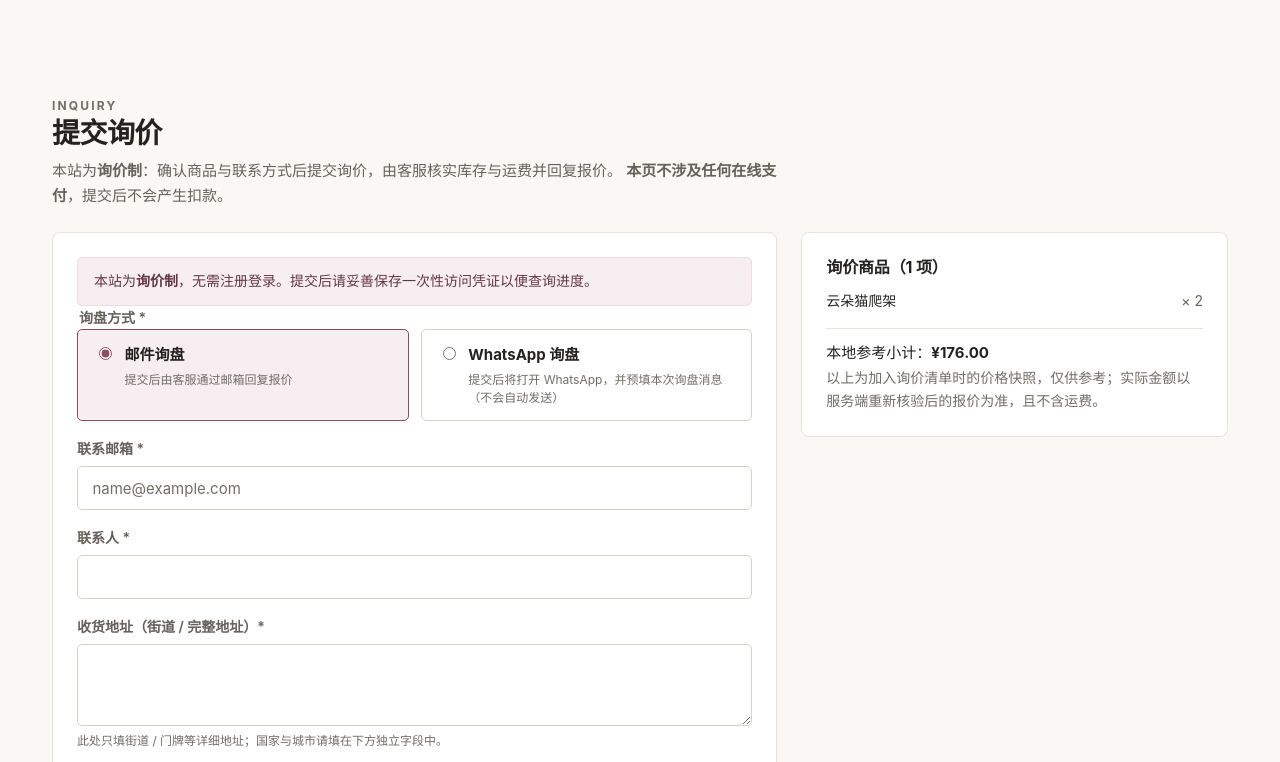
Scenario: CheckoutPage · G6-2.9（提交失败恢复 / 结果未知区分 / 刷新重进） › 提交成功后：购物车清空、跳转结果页，且不残留错误提示
Type "guest@example.com" into the field with id "checkout-email". click: (415, 488)
box: [77, 466, 752, 510]
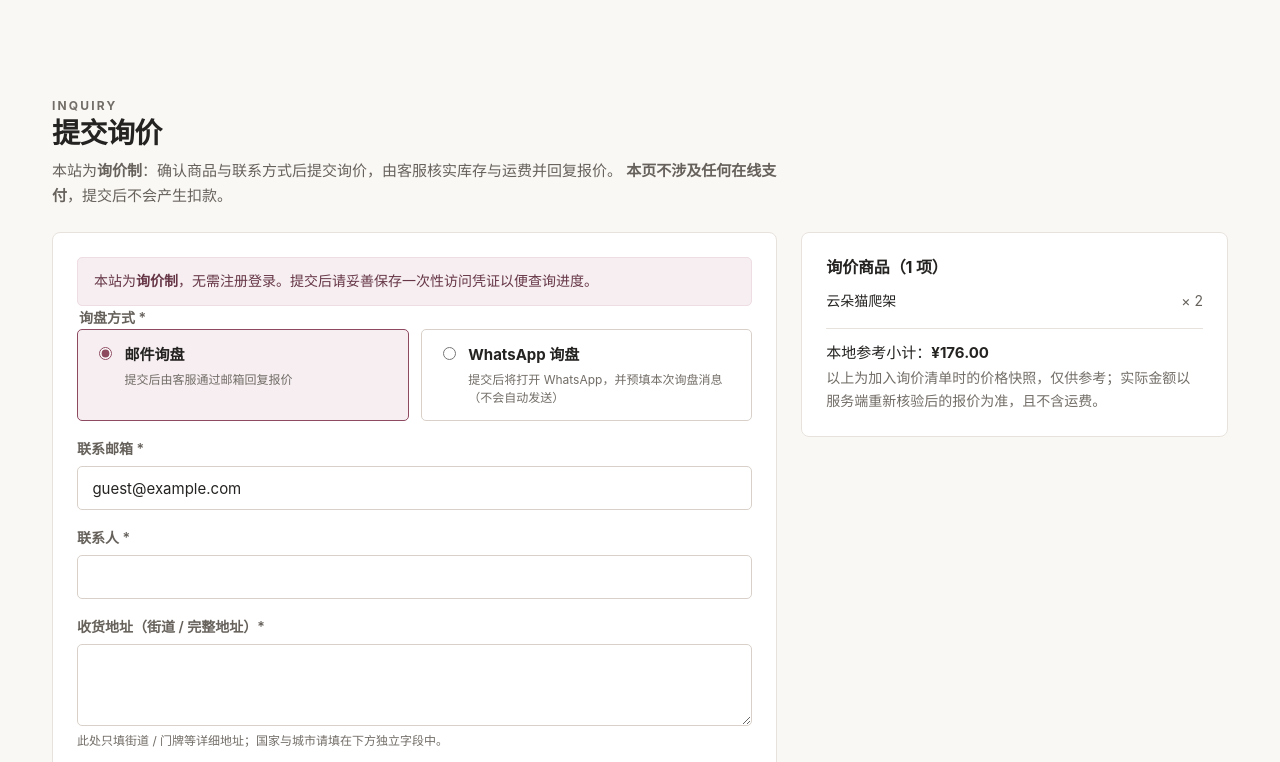
Type "张三" into the field with id "checkout-name". click: (415, 577)
box: [77, 555, 752, 599]
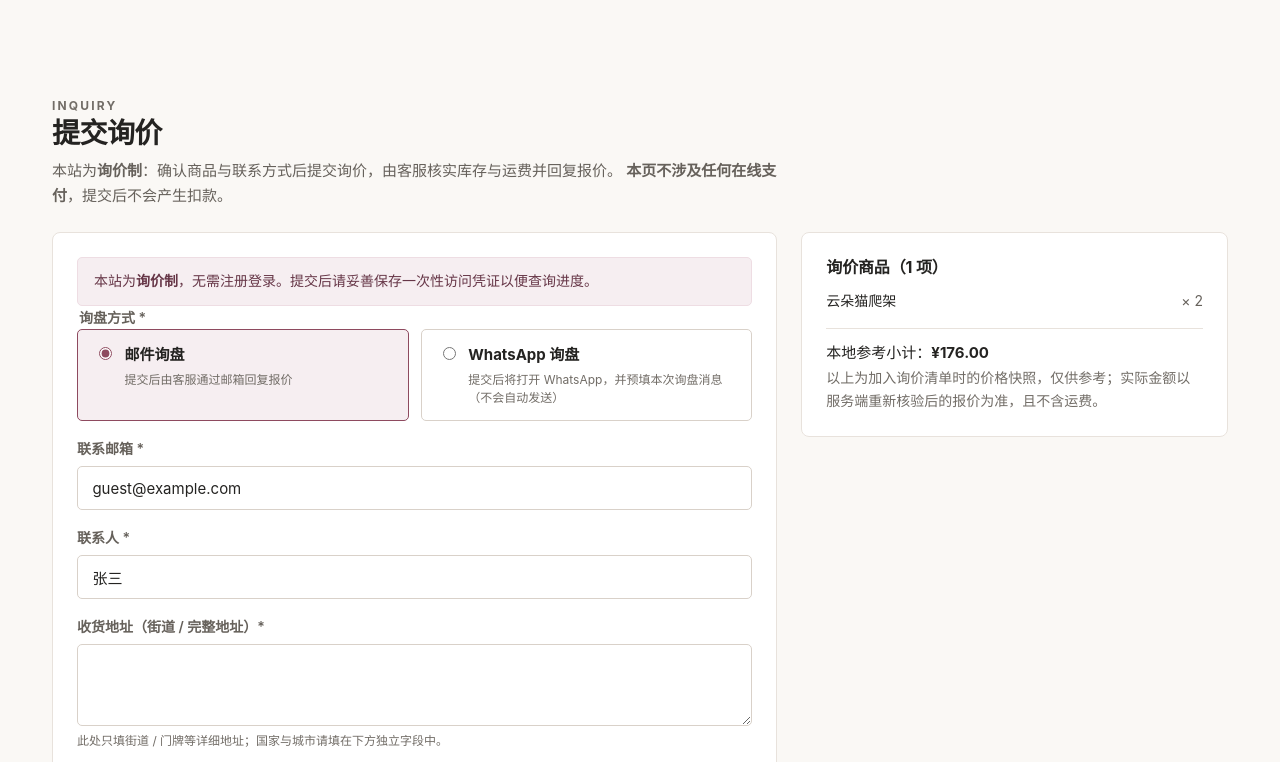
Type "123 Pet Street, Springfield, IL 62704" into the text box with id "checkout-address". click: (415, 685)
box: [77, 644, 752, 726]
(page scrolled)
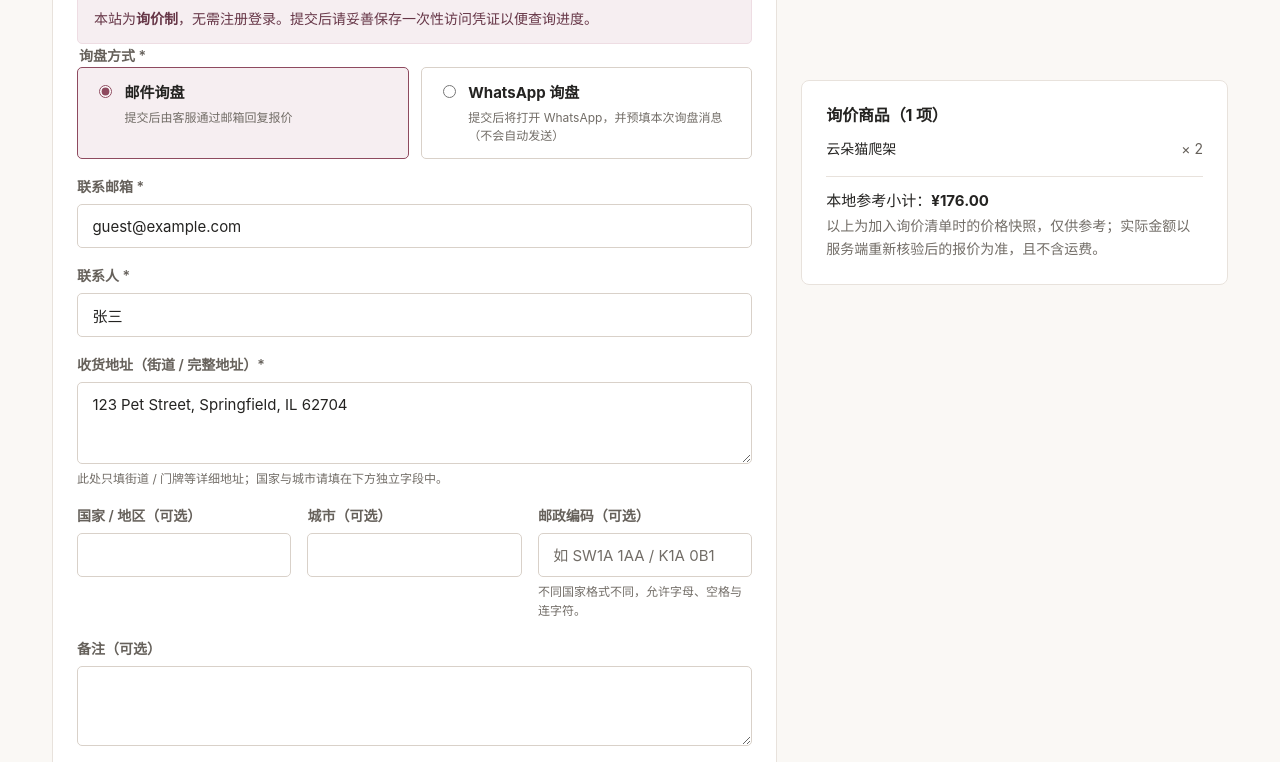
Submit the form
(page scrolled)
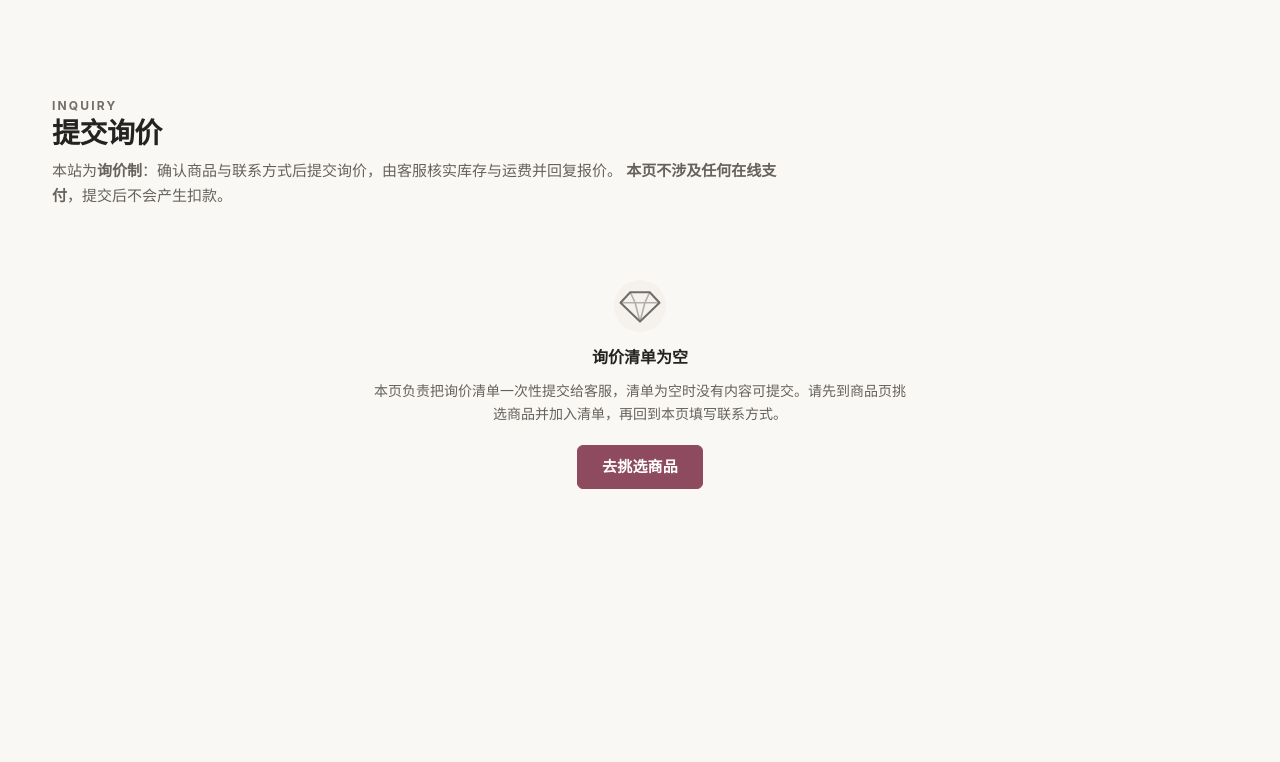
Expected: the text "询价清单为空" is shown, [592, 344, 688, 371]
